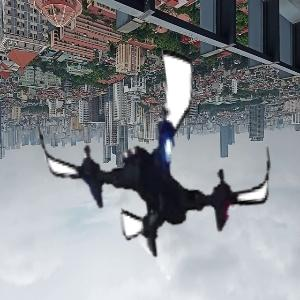drone: (35, 31, 278, 274)
